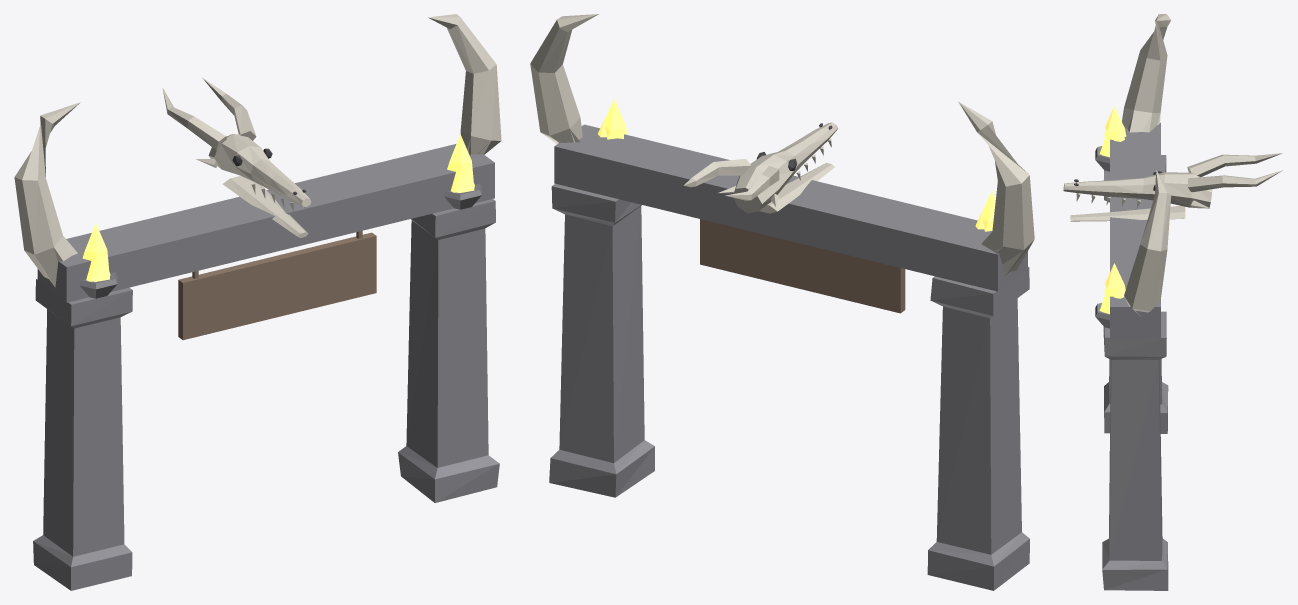
Rendered from Gate_Lair.glb.
The picture shows the model from 3 angles, left to right: view 1: azimuth 30°, elevation 25°; view 2: azimuth 150°, elevation 25°; view 3: azimuth 270°, elevation 25°; orthographic projection. The views are drawn at different scales.
Visible parts, largest first — view 1: Stone, Bones, Sign, Flame; view 2: Stone, Bones, Sign, Flame; view 3: Stone, Bones, Flame.
Boxes of the visible parts, x1,y1,x2,y2 form: Stone: (33, 144, 499, 590); Bones: (14, 14, 501, 287); Sign: (178, 230, 376, 340); Flame: (82, 134, 474, 281); Stone: (549, 124, 1029, 590); Bones: (530, 14, 1034, 276); Sign: (700, 219, 905, 313); Flame: (598, 99, 995, 231); Stone: (1095, 122, 1168, 590); Bones: (1063, 14, 1282, 315); Flame: (1099, 106, 1126, 313).
Bounding box in the file's own units: 20.83 × 19.2 × 9.49.
